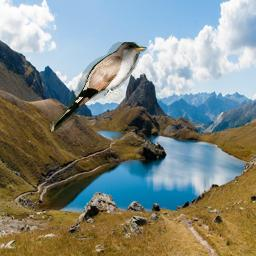Cuckoo: (50, 42, 148, 132)
